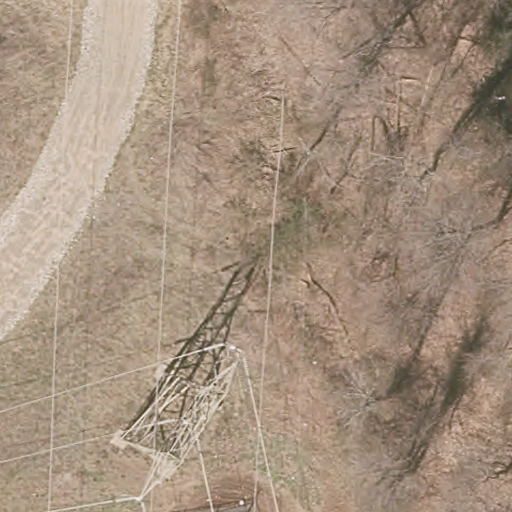TT: (117, 341, 250, 501)
